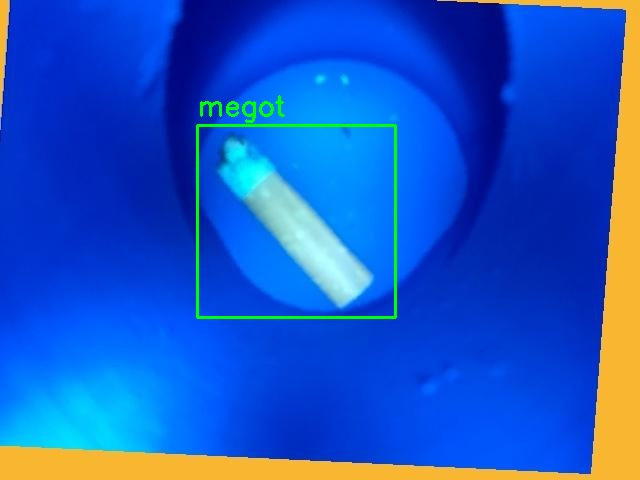megot: (197, 125, 395, 317)
